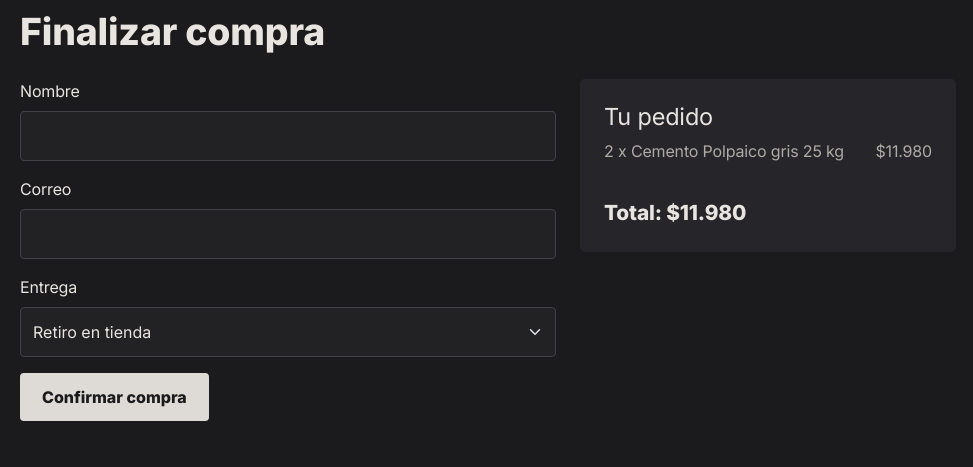
Checkout › muestra los errores entregados por la validación y no vacía el carrito
Click the button "Confirmar compra" at coordinates (114, 397), box [20,373,209,421]
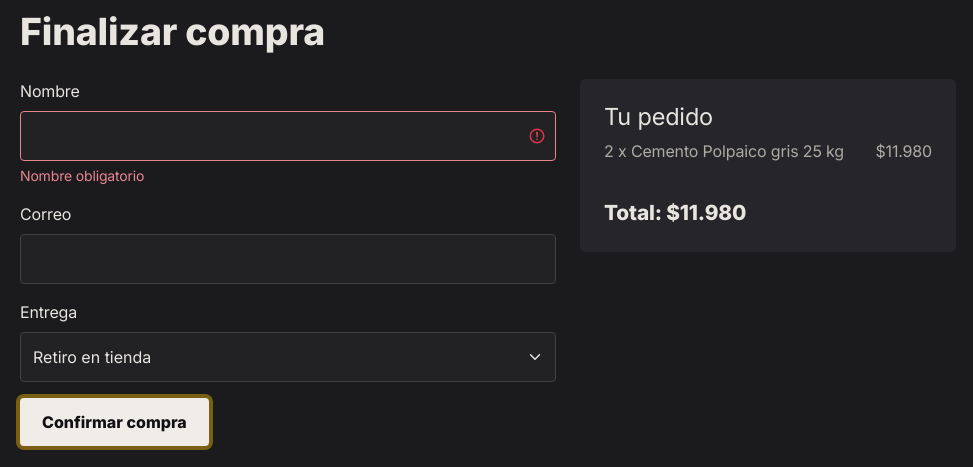
Check: the text "Nombre obligatorio" is shown, box [20,167,144,184]
